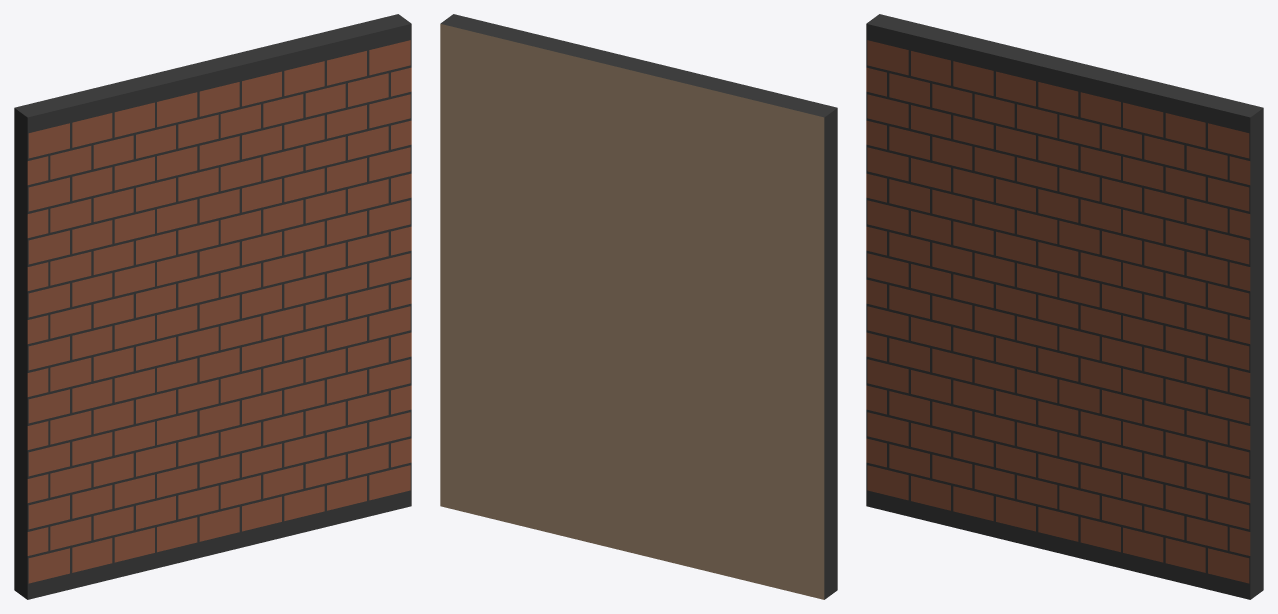
Rendered from Wall2_C10_01.fbx.
The picture shows the model from 3 angles, left to right: view 1: azimuth 30°, elevation 25°; view 2: azimuth 150°, elevation 25°; view 3: azimuth 330°, elevation 25°; orthographic projection.
Parts seen in each view (by area): view 1: Wall2_C10_01; view 2: Wall2_C10_01; view 3: Wall2_C10_01.
Boxes of the visible parts, x1,y1,x2,y2 form: Wall2_C10_01: (14, 14, 411, 599); Wall2_C10_01: (440, 14, 837, 599); Wall2_C10_01: (866, 14, 1263, 599).
Size of the model in its own units: 250 by 300 by 15.
